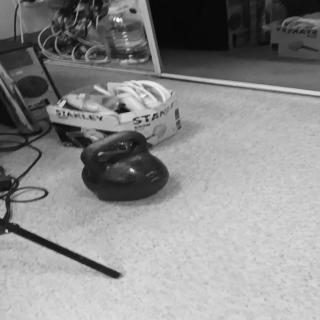kettlebell: (82, 132, 170, 202)
